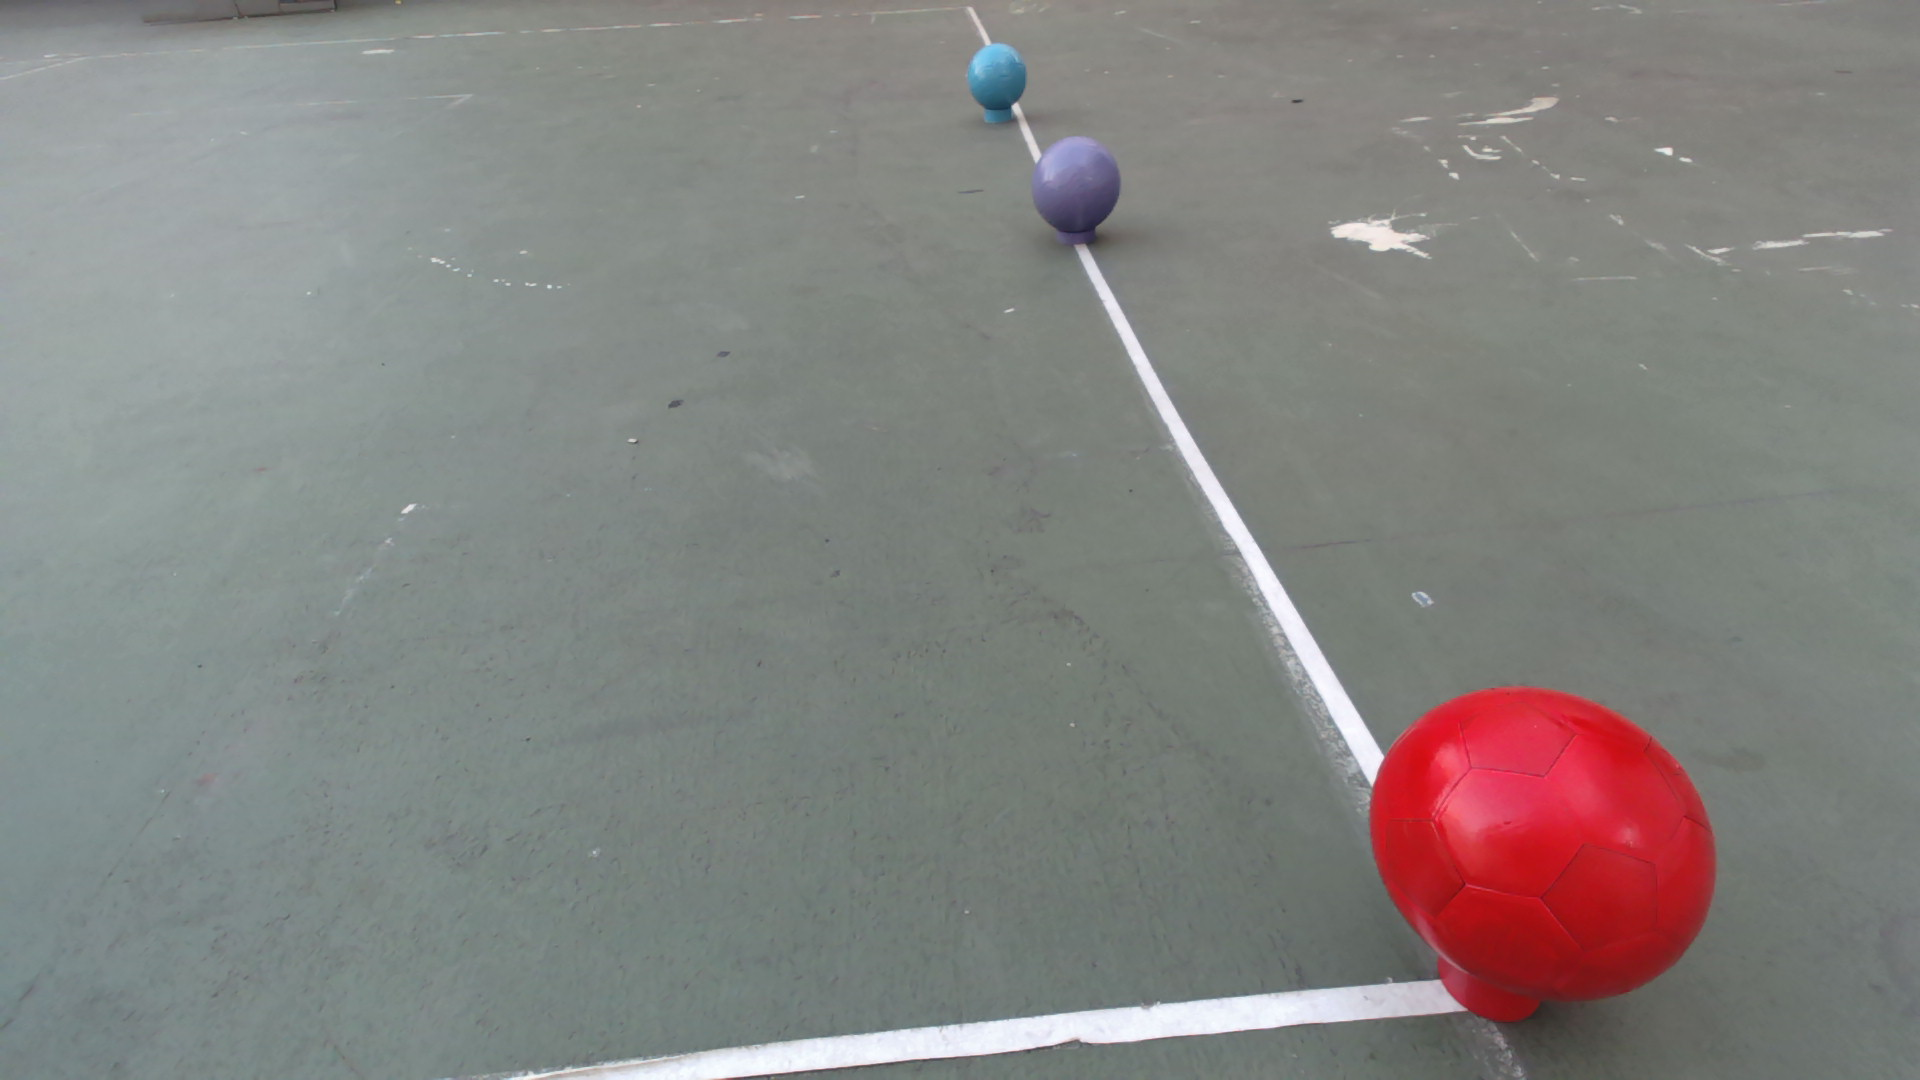Blue ball: (967, 42, 1029, 111)
Purple ball: (1030, 135, 1121, 233)
Red ball: (1365, 679, 1720, 1004)
